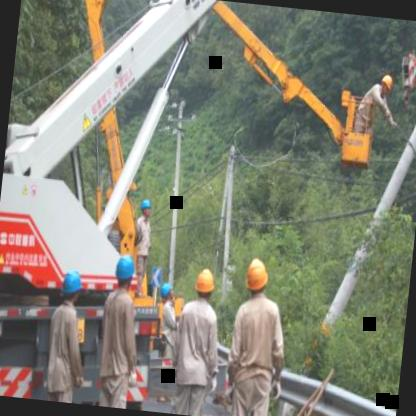helmet: (240, 254, 272, 298), (56, 265, 87, 308), (190, 266, 218, 306), (112, 252, 138, 292), (156, 280, 178, 304), (138, 193, 154, 219), (379, 70, 394, 96)
